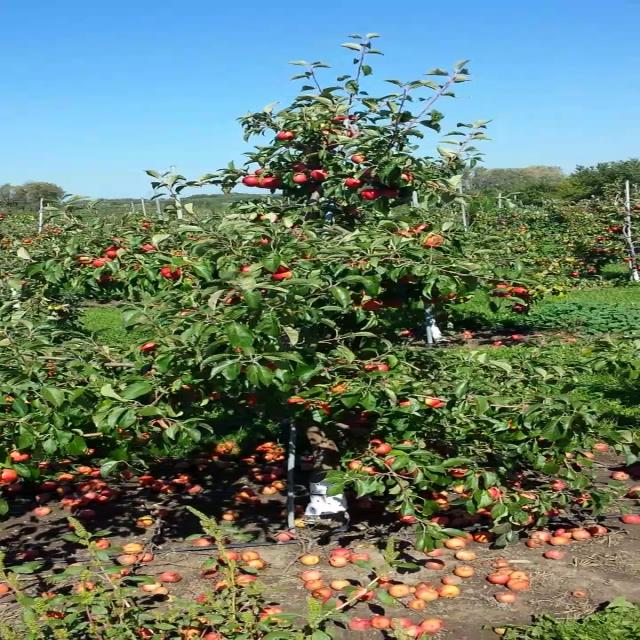apple: (304, 401, 332, 413), (371, 438, 392, 452), (159, 266, 181, 278), (9, 450, 32, 461), (273, 265, 291, 279), (332, 381, 348, 395), (2, 469, 17, 483), (425, 397, 446, 407), (356, 412, 370, 426), (520, 514, 536, 526), (360, 190, 379, 200), (399, 273, 417, 283), (517, 492, 539, 500), (396, 468, 418, 476), (310, 170, 329, 179), (243, 177, 260, 187), (364, 364, 388, 371), (262, 177, 278, 187), (426, 236, 442, 246), (400, 515, 419, 523), (301, 183, 322, 190), (262, 212, 278, 221), (362, 300, 380, 308), (93, 258, 111, 266), (486, 487, 500, 497), (107, 246, 118, 258), (492, 285, 514, 291), (510, 286, 526, 294), (294, 173, 306, 183), (396, 398, 411, 406), (387, 300, 402, 308), (279, 131, 293, 139), (295, 164, 309, 172), (347, 178, 361, 186), (414, 224, 428, 232), (79, 256, 93, 264), (142, 342, 156, 350), (352, 155, 365, 163), (453, 469, 466, 477), (385, 190, 397, 198), (363, 465, 375, 473), (398, 230, 414, 236), (454, 485, 466, 493), (440, 292, 455, 298), (142, 243, 156, 249), (250, 392, 257, 404), (401, 173, 411, 181), (287, 398, 307, 402), (183, 384, 199, 389), (386, 457, 396, 465), (351, 460, 361, 468), (253, 169, 264, 176), (266, 362, 278, 368), (260, 236, 270, 243), (182, 310, 193, 316), (227, 298, 238, 304), (498, 293, 514, 297), (242, 265, 252, 271), (333, 116, 347, 120), (213, 391, 220, 399), (398, 440, 412, 444), (513, 305, 522, 311), (119, 427, 125, 435), (351, 208, 360, 213), (303, 253, 310, 259), (132, 264, 140, 268), (241, 366, 246, 372), (346, 130, 350, 136), (323, 131, 329, 135), (291, 224, 297, 228), (143, 222, 150, 225)
